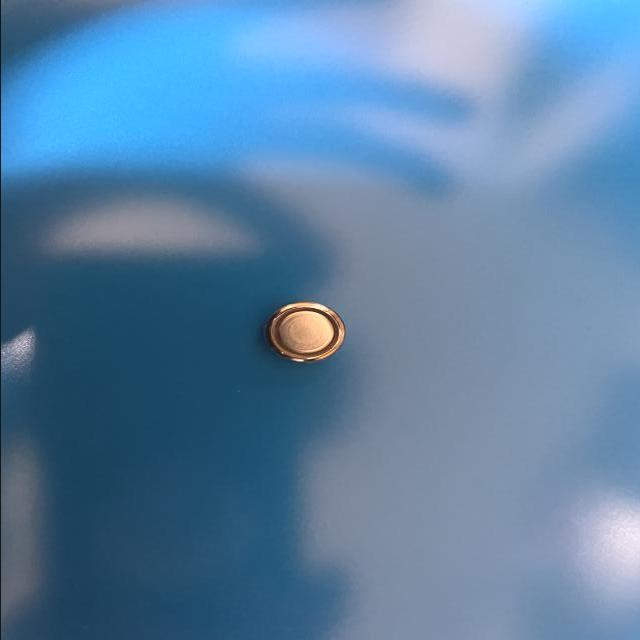COIN: (264, 299, 346, 364)
